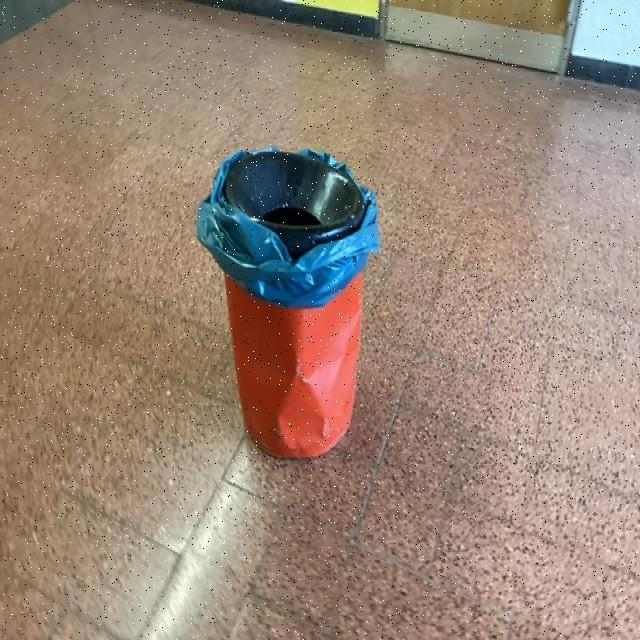garbage container: (159, 105, 419, 509)
